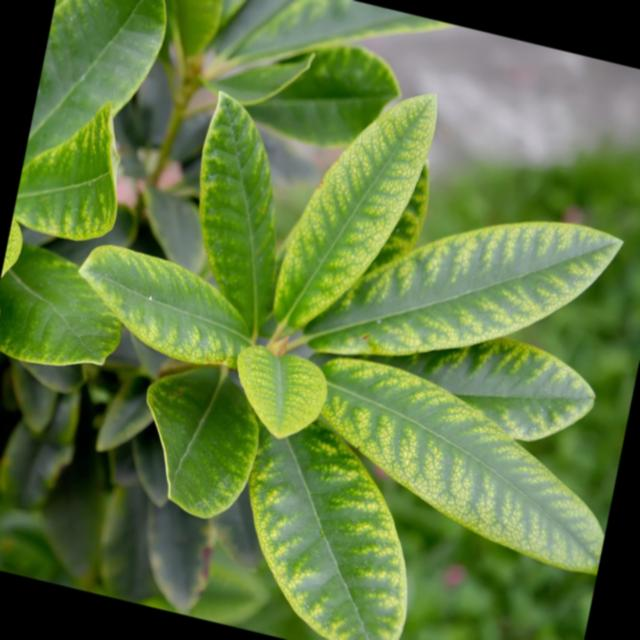Chlorosis: (75, 115, 585, 584)
